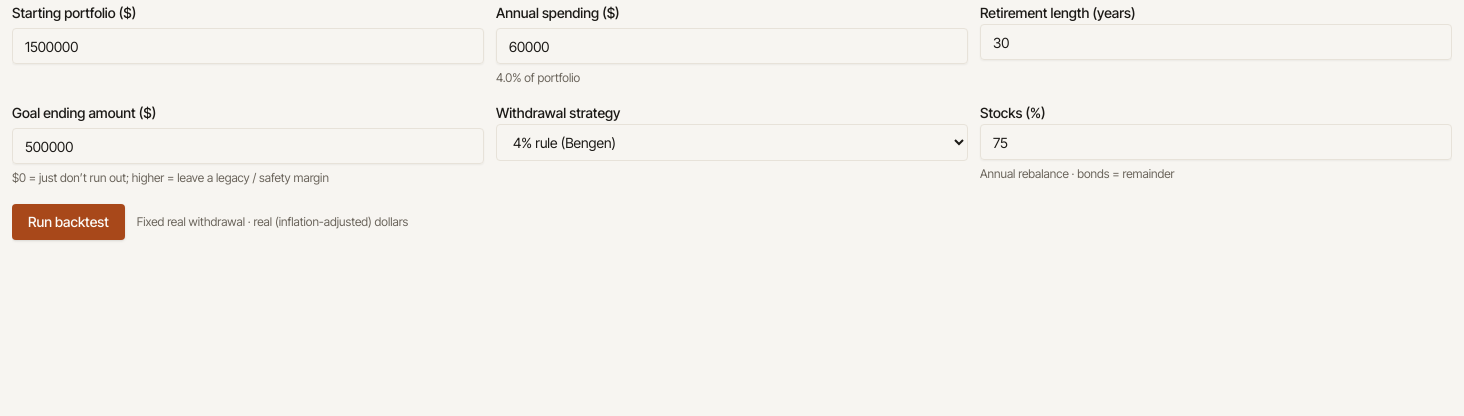
Test case: BacktestParamsForm › hides the guardrails advanced block unless strategy is Variable
Check: the field labelled "minimum withdrawal" is not shown
# Switch to Variable (native select per conventions — avoids Radix in tests).
Select "Variable (% of portfolio)" in the dropdown labelled "Withdrawal strategy": (732, 142) [496,124,968,161]
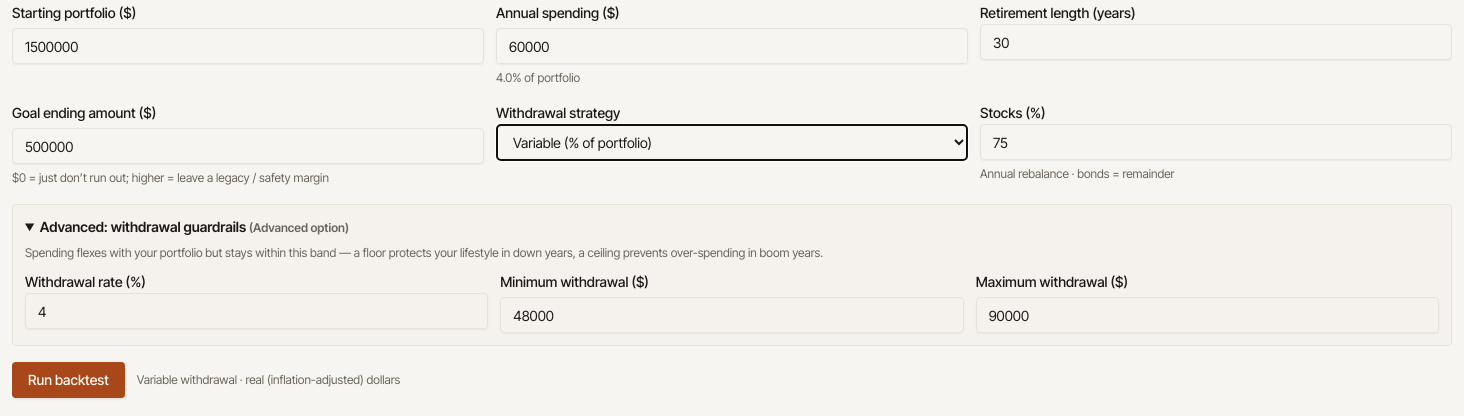
Check: the number field labelled "Minimum withdrawal ($)" is shown, box [500,297,964,333]
Check: the number field labelled "Maximum withdrawal ($)" is shown, box [976,297,1439,333]
